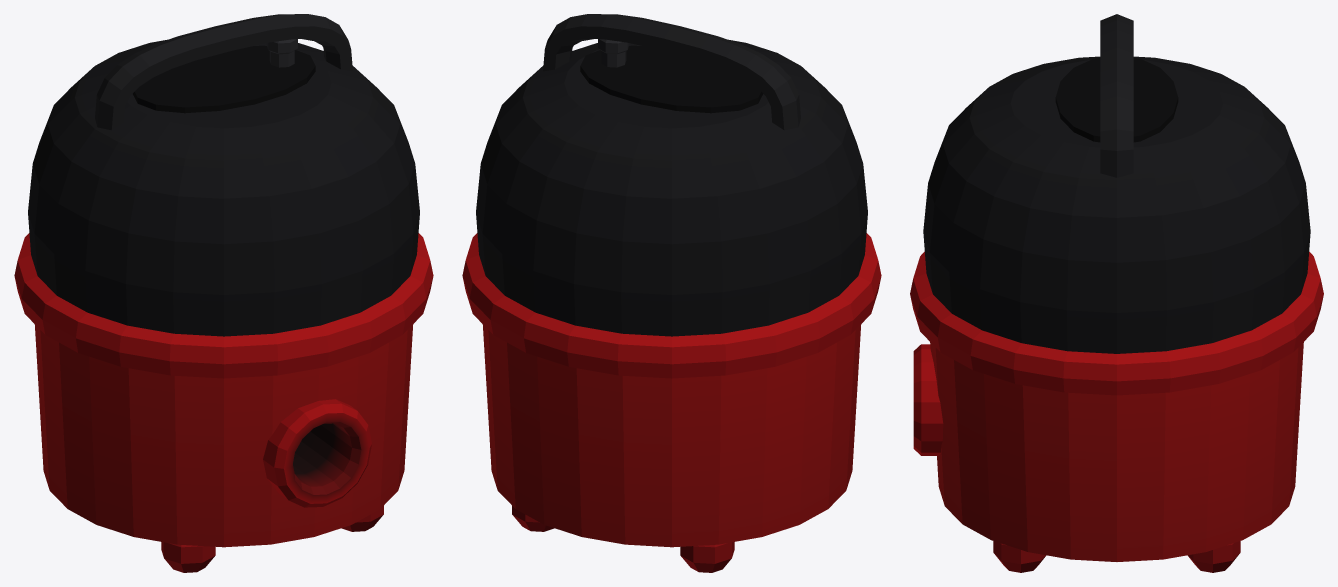
Rendered from shopvac.glb.
The picture shows the model from 3 angles, left to right: view 1: azimuth 30°, elevation 25°; view 2: azimuth 150°, elevation 25°; view 3: azimuth 270°, elevation 25°; orthographic projection.
Parts seen in each view (by area): view 1: ShopVac; view 2: ShopVac; view 3: ShopVac.
Part boxes in pixels (left/top/right/bottom): ShopVac: left=14, top=14, right=433, bottom=572; ShopVac: left=462, top=14, right=881, bottom=572; ShopVac: left=910, top=14, right=1323, bottom=572.
Bounding box in the file's own units: 0.778 × 1 × 0.778.
